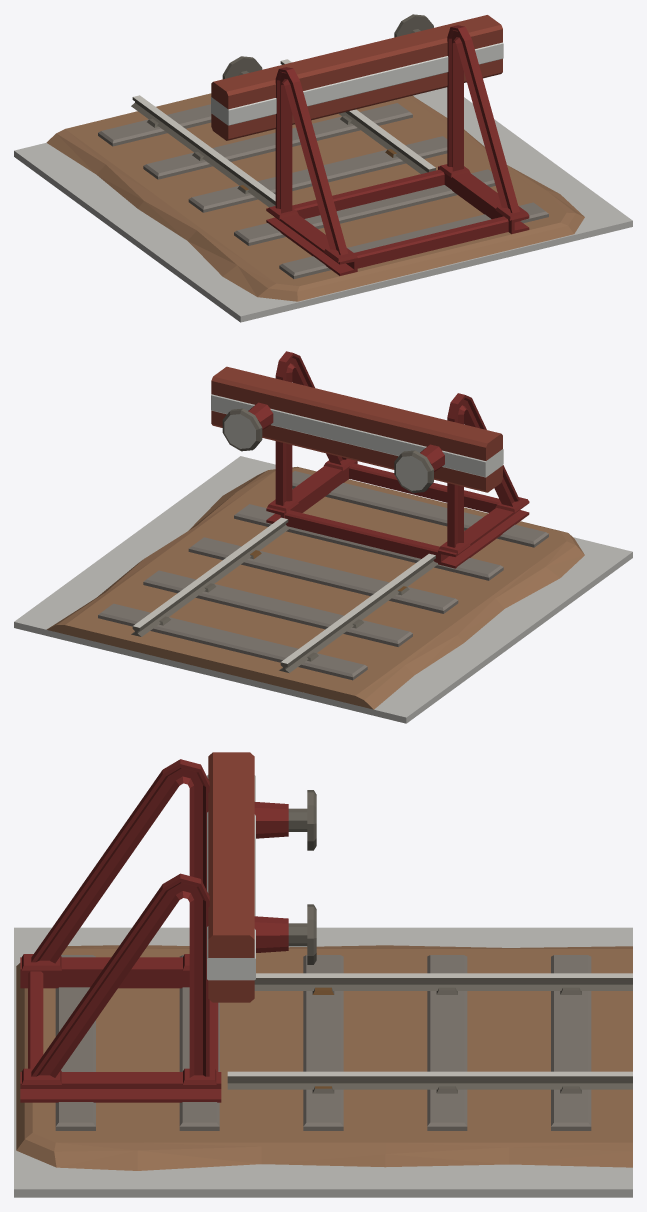
The model's file is buffer-stop-4871fc.glb.
3 views of the same model, one above another, from view 1: azimuth 30°, elevation 25°; view 2: azimuth 150°, elevation 25°; view 3: azimuth 270°, elevation 25° (orthographic). The views are drawn at different scales.
Parts seen in each view (by area): view 1: buffer-stop-body; view 2: buffer-stop-body; view 3: buffer-stop-body.
Boxes of the visible parts, x1,y1,x2,y2 form: buffer-stop-body: (14, 14, 632, 322); buffer-stop-body: (14, 351, 632, 723); buffer-stop-body: (14, 752, 632, 1197).
Size of the model in its own units: 4 by 1.77 by 4.
